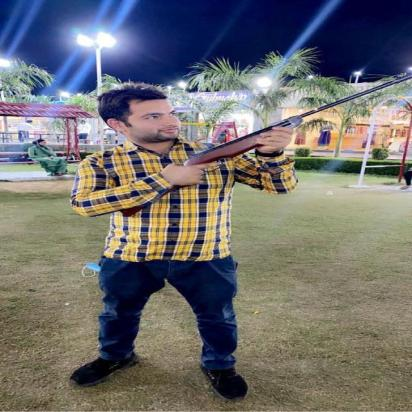Gun: (104, 74, 411, 221)
